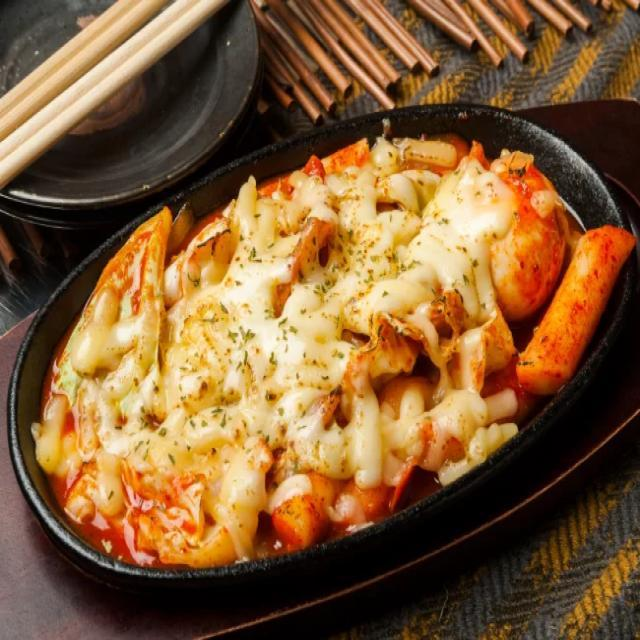banh gao: (29, 111, 640, 573)
banh gao cay tokbokki: (23, 100, 640, 578)
cha ca: (461, 145, 569, 322)
pho mai: (103, 289, 348, 509), (258, 185, 489, 338), (285, 386, 525, 499)
